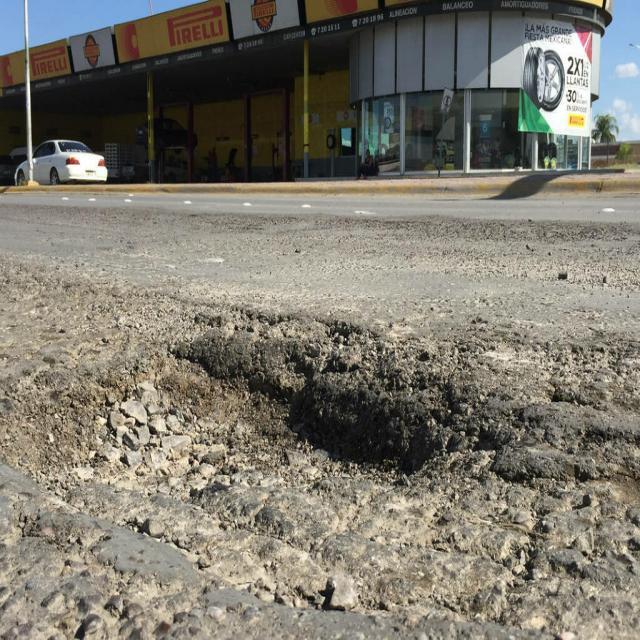Pothole: (107, 268, 520, 640)
